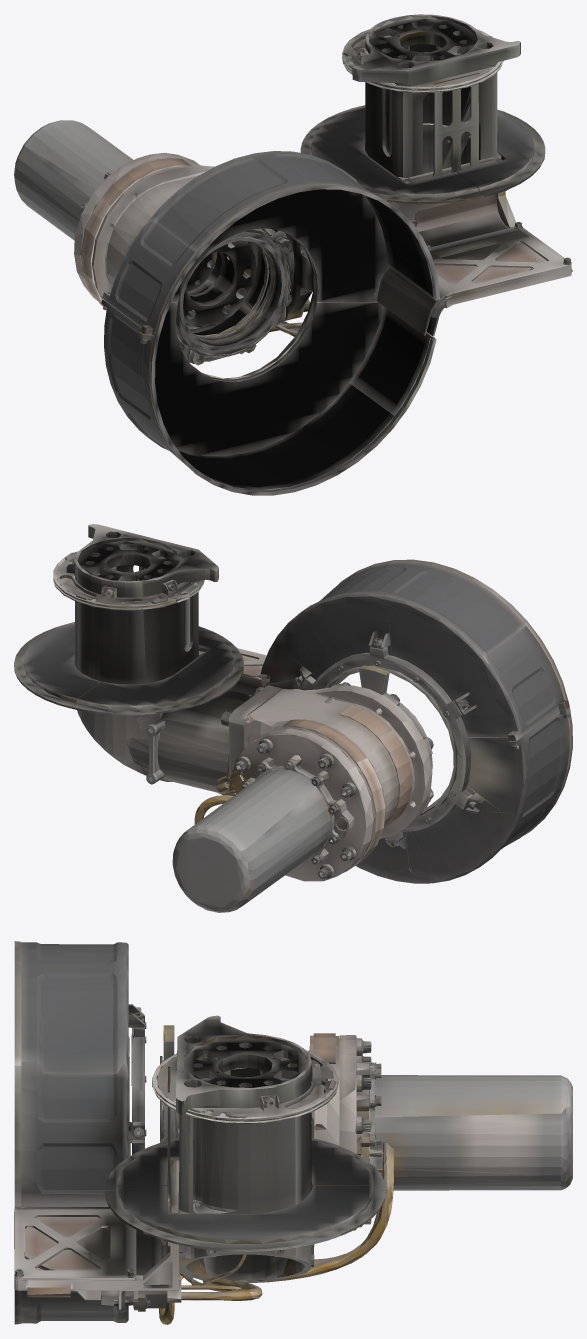
Rendered from Arm_LINK_4.gltf.
3 views of the same model, one above another, from view 1: azimuth 30°, elevation 25°; view 2: azimuth 150°, elevation 25°; view 3: azimuth 270°, elevation 25° (orthographic). The views are drawn at different scales.
Visible parts, largest first — view 1: Mesh_0; view 2: Mesh_0; view 3: Mesh_0.
Boxes of the visible parts, left/top/right/bottom form: Mesh_0: left=14, top=14, right=572, bottom=495; Mesh_0: left=14, top=524, right=572, bottom=912; Mesh_0: left=14, top=941, right=572, bottom=1324.
Size of the model in its own units: 0.3718 by 0.2393 by 0.3252.
Materials: 1 (1 with a texture image).
